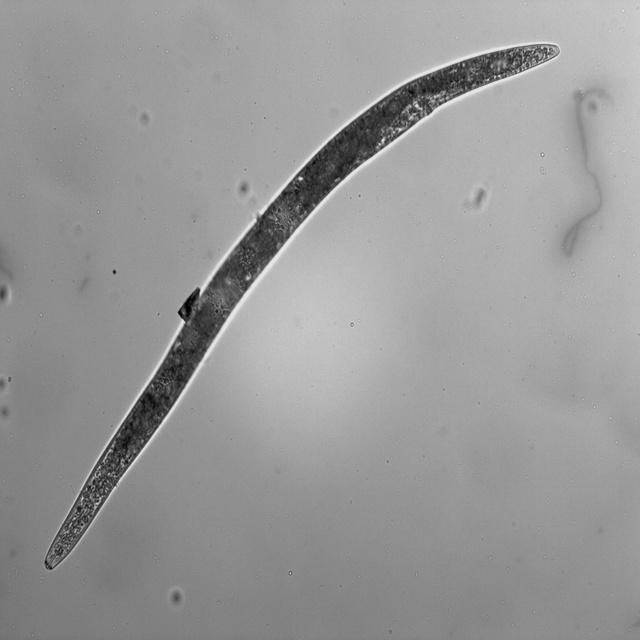Pratylenchus: (34, 32, 572, 576)
